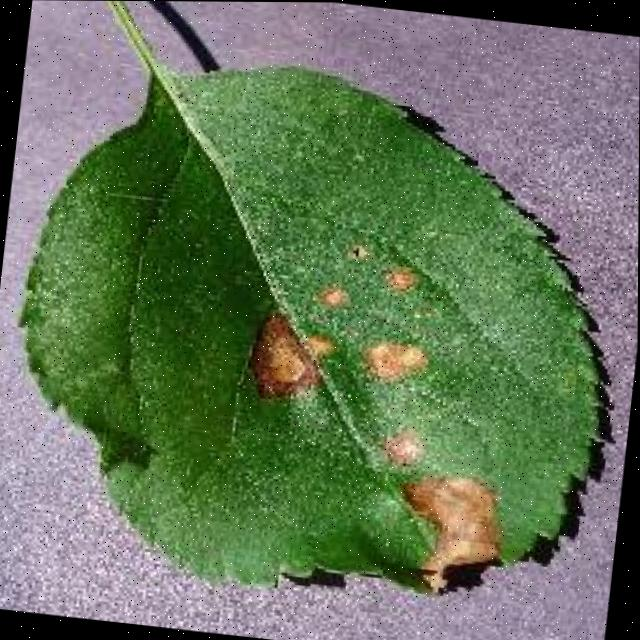black_rot: (355, 411, 540, 610), (238, 301, 353, 417), (354, 311, 455, 403), (373, 247, 427, 309), (309, 273, 358, 321)
